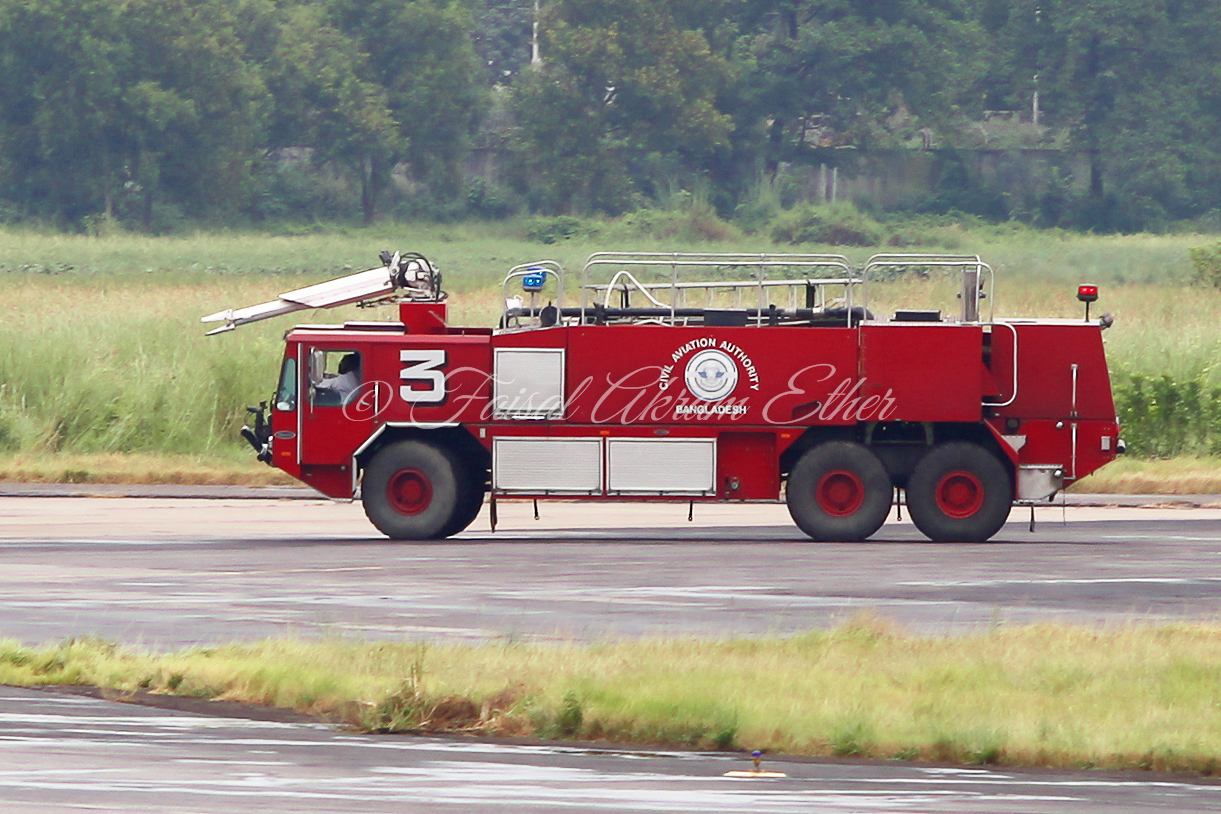Fire truck: (200, 224, 1138, 543)
